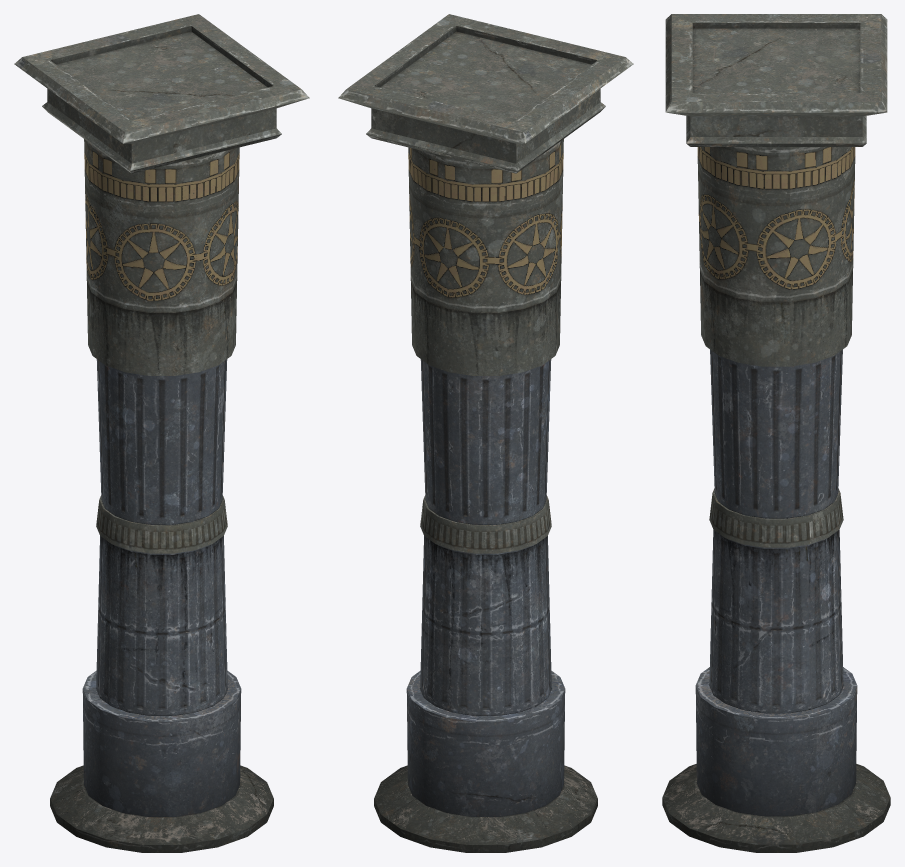
Rendered from SM_Prop_Stone_Column_A.fbx.
3 renders of one model, left to right at view 1: azimuth 30°, elevation 25°; view 2: azimuth 150°, elevation 25°; view 3: azimuth 270°, elevation 25°, orthographic.
Visible parts, largest first — view 1: SM_Prop_Stone_Column_A_LOD0; view 2: SM_Prop_Stone_Column_A_LOD0; view 3: SM_Prop_Stone_Column_A_LOD0.
Boxes of the visible parts, left/top/right/bottom form: SM_Prop_Stone_Column_A_LOD0: left=14, top=14, right=309, bottom=852; SM_Prop_Stone_Column_A_LOD0: left=338, top=14, right=633, bottom=852; SM_Prop_Stone_Column_A_LOD0: left=662, top=14, right=890, bottom=852.
Size of the model in its own units: 127 by 129 by 467.
Materials: 1 (1 with a texture image).
